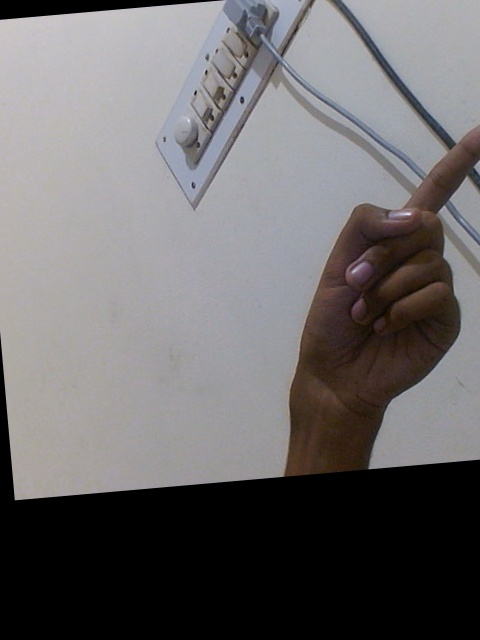hand: (288, 118, 480, 421)
